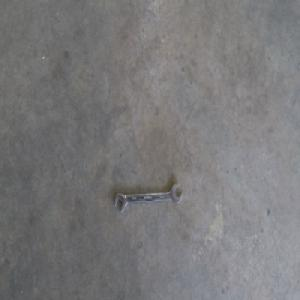Wrench: (116, 180, 183, 207)
